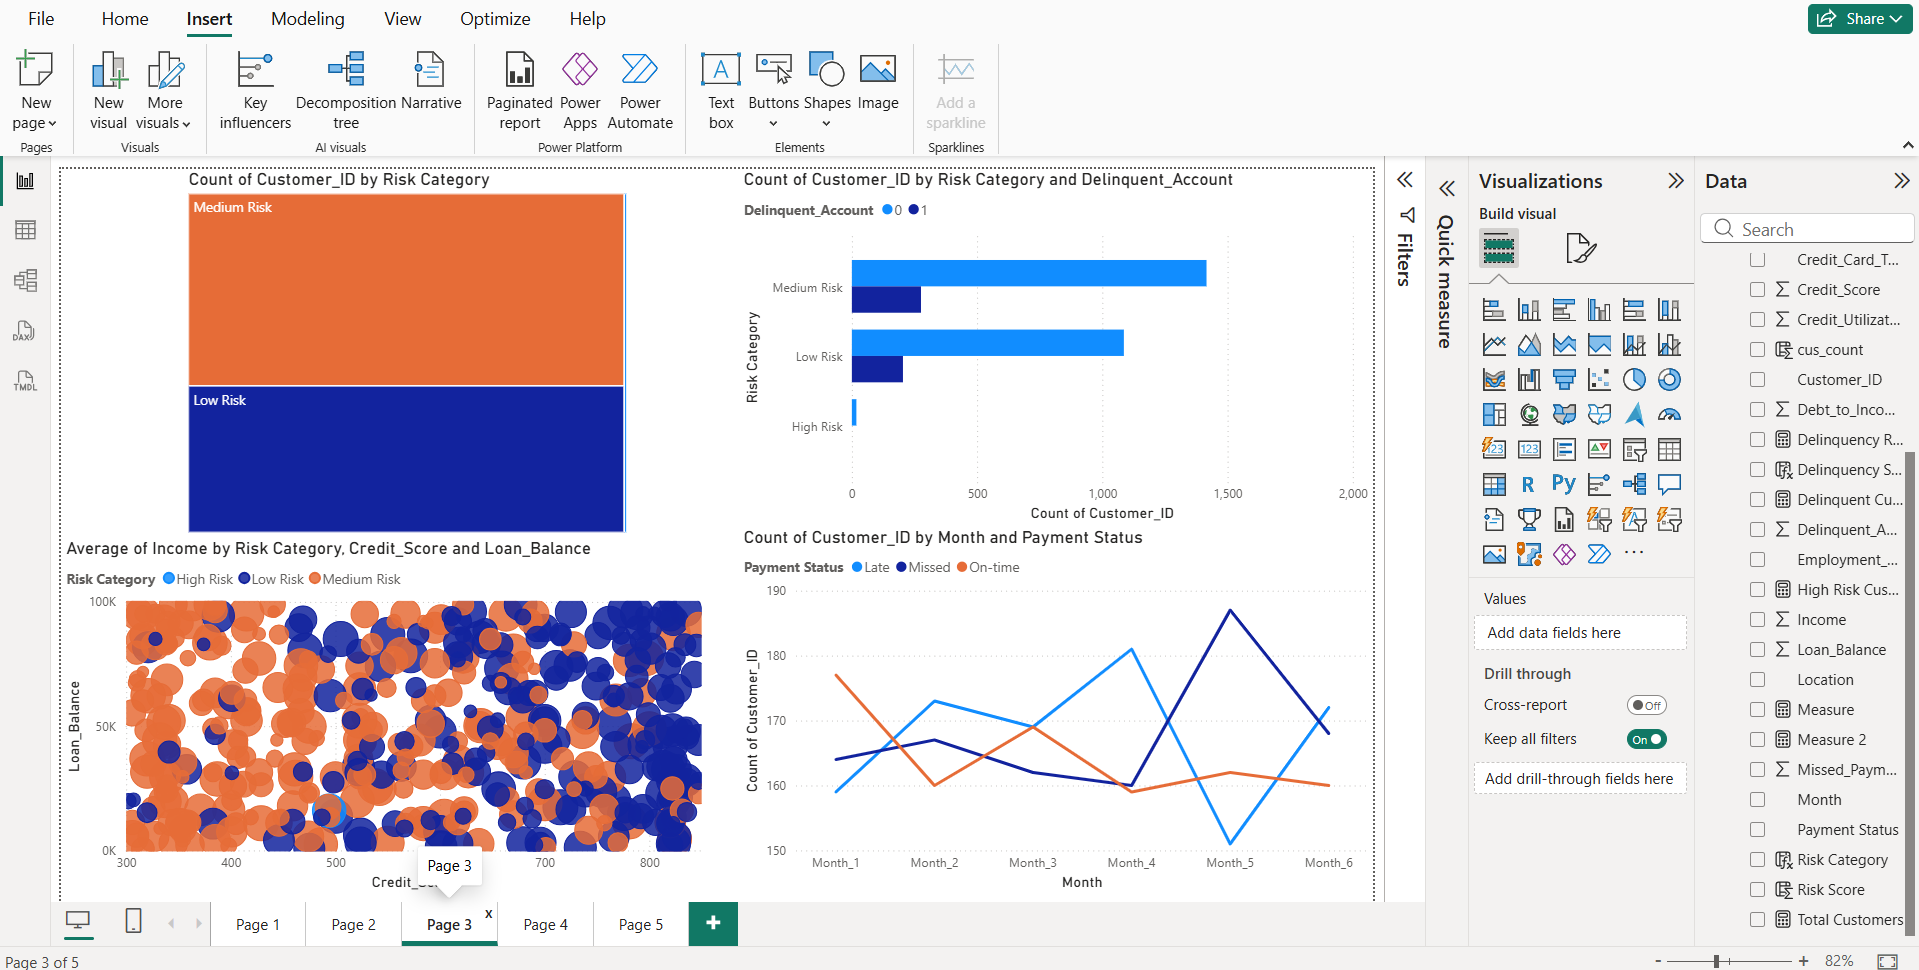

This screenshot's page, from the dashboard's own definition file:
{"tool":"powerbi","page":{"name":"Page 3","canvas":[1280,720],"ordinal":2},"visuals":[{"type":"treemap","fields":{"Group":["Delinquency_prediction_dataset.Risk Category"],"Values":["CountNonNull(Delinquency_prediction_dataset.Customer_ID)"]},"box":[119.5,0,437.8,359.8],"z":0},{"type":"scatterChart","fields":{"X":["Delinquency_prediction_dataset.Credit_Score"],"Y":["Delinquency_prediction_dataset.Loan_Balance"],"Size":["Avg(Delinquency_prediction_dataset.Income)"],"Series":["Delinquency_prediction_dataset.Risk Category"]},"box":[0,359.8,640.2,348.8],"z":1000},{"type":"clusteredBarChart","fields":{"Category":["Delinquency_prediction_dataset.Risk Category"],"Y":["CountNonNull(Delinquency_prediction_dataset.Customer_ID)"],"Series":["Delinquency_prediction_dataset.Delinquent_Account"]},"box":[661,0,619.5,348.8],"z":2000},{"type":"lineChart","fields":{"Category":["Delinquency_prediction_dataset.Month"],"Y":["CountNonNull(Delinquency_prediction_dataset.Customer_ID)"],"Series":["Delinquency_prediction_dataset.Payment Status"]},"box":[661,348.8,619.5,359.8],"z":3000}]}

Visuals, with their boxes on the page's 1280x720 design canvas (x1, y1, x2, y2). These are canvas units, not pixel positions in the 1919x970 screenshot, which may show the page scaled, cropped or inside an application window:
treemap - Delinquency_prediction_dataset.Risk Category x CountNonNull(Delinquency_prediction_dataset.Customer_ID): left=120, top=0, right=557, bottom=360
scatterChart - Delinquency_prediction_dataset.Credit_Score x Delinquency_prediction_dataset.Loan_Balance: left=0, top=360, right=640, bottom=709
clusteredBarChart - Delinquency_prediction_dataset.Risk Category x CountNonNull(Delinquency_prediction_dataset.Customer_ID): left=661, top=0, right=1280, bottom=349
lineChart - Delinquency_prediction_dataset.Month x CountNonNull(Delinquency_prediction_dataset.Customer_ID): left=661, top=349, right=1280, bottom=709
